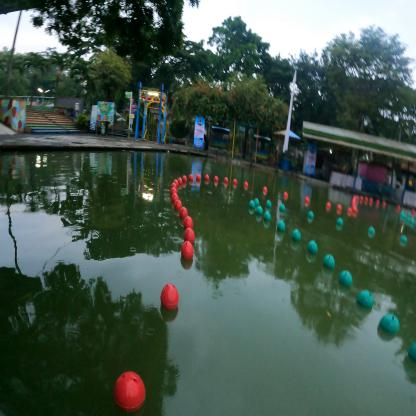green_buoy: (379, 314, 401, 344), (322, 254, 336, 279), (357, 292, 372, 314), (340, 271, 352, 294), (307, 242, 318, 260), (274, 218, 285, 235), (292, 232, 303, 246), (256, 207, 264, 222), (264, 214, 272, 229), (249, 197, 255, 215), (336, 219, 343, 231), (266, 200, 272, 213), (279, 204, 286, 215), (400, 234, 408, 243), (307, 214, 314, 224), (368, 228, 374, 239)
red_buoy: (116, 367, 145, 412), (159, 282, 179, 319), (178, 240, 197, 270), (182, 214, 194, 233), (184, 230, 195, 246), (178, 209, 188, 221), (175, 199, 183, 213), (171, 192, 179, 202), (173, 179, 179, 188), (170, 187, 176, 196), (171, 183, 177, 191), (204, 174, 210, 181), (337, 204, 342, 212), (262, 186, 268, 192), (188, 173, 193, 180), (182, 175, 187, 182), (214, 175, 219, 182), (326, 202, 331, 208), (196, 174, 201, 180), (284, 191, 288, 198), (305, 196, 309, 203), (224, 176, 228, 183), (348, 207, 352, 213), (178, 178, 182, 184), (233, 178, 237, 184), (244, 181, 248, 187)
